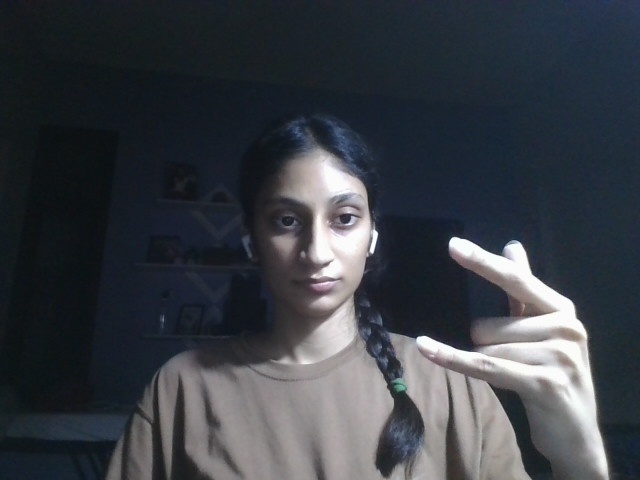i love you: (412, 232, 607, 467)
